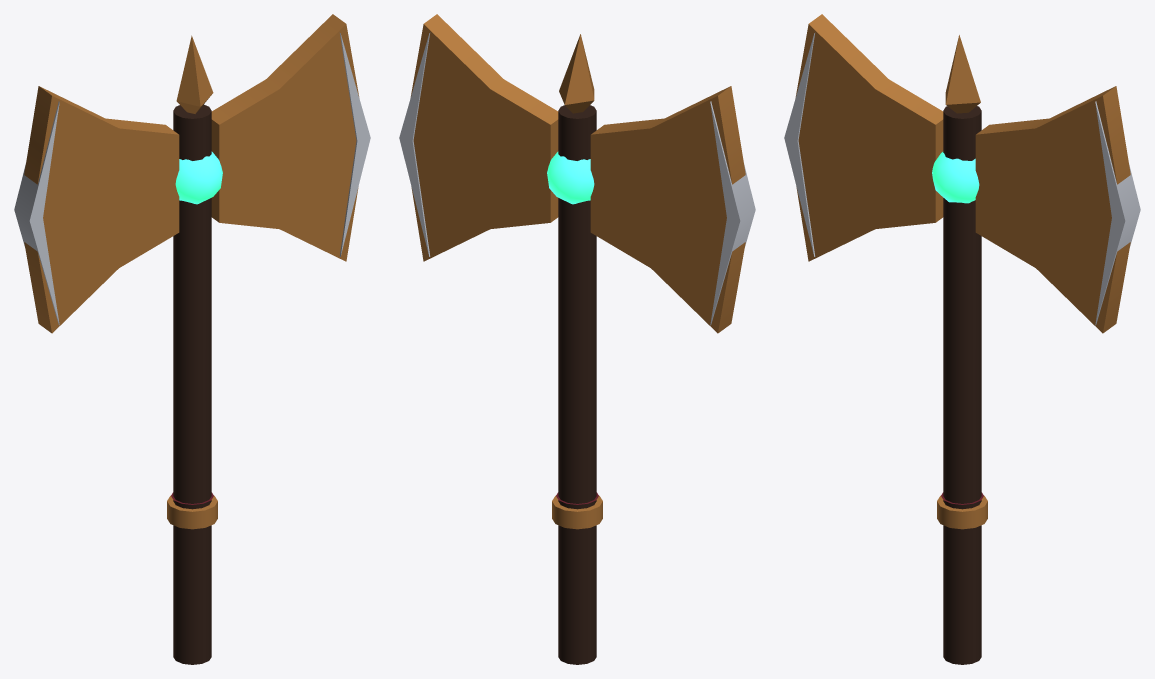
The model's file is arma_machado_t2_bronze_duplo.glb.
3 views of the same model, side by side, from view 1: azimuth 30°, elevation 25°; view 2: azimuth 150°, elevation 25°; view 3: azimuth 330°, elevation 25° (orthographic).
Visible parts, largest first — view 1: arma_machado_t2_bronze_duplo; view 2: arma_machado_t2_bronze_duplo; view 3: arma_machado_t2_bronze_duplo.
Boxes of the visible parts, x1,y1,x2,y2 form: arma_machado_t2_bronze_duplo: [14, 14, 370, 664]; arma_machado_t2_bronze_duplo: [399, 14, 755, 664]; arma_machado_t2_bronze_duplo: [784, 14, 1140, 664].
Size of the model in its own units: 0.51 by 0.89 by 0.088.
